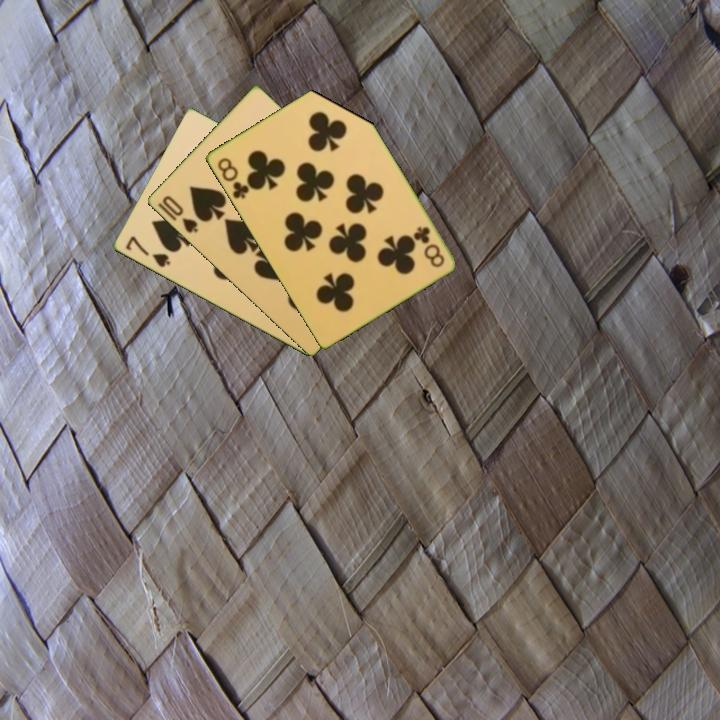10s: (159, 192, 201, 236)
7s: (122, 232, 173, 271)
8c: (213, 154, 252, 202), (410, 223, 447, 270)
